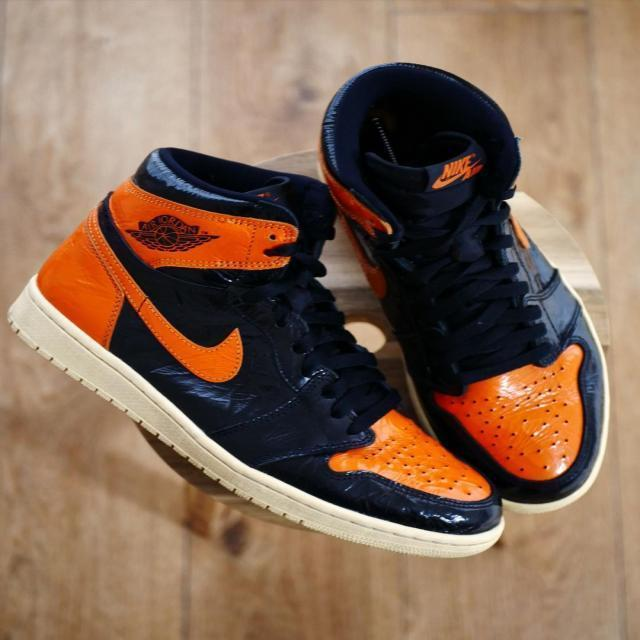nike original jordan 1: (2, 153, 516, 562), (313, 62, 620, 512)
